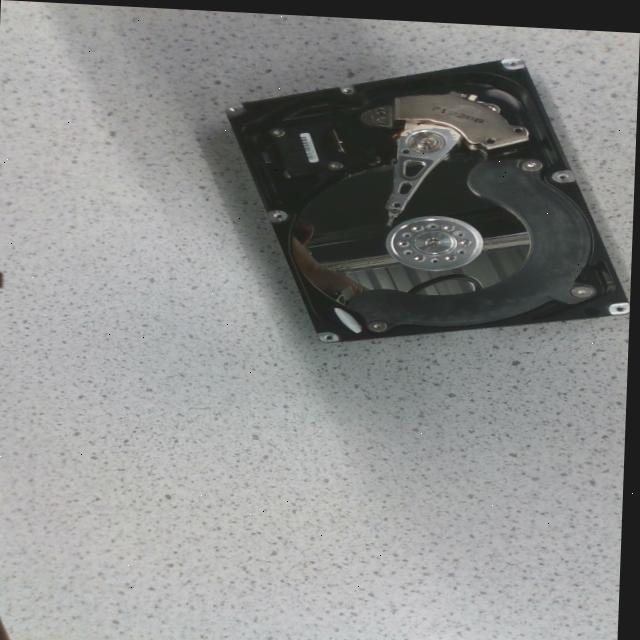actuator arm: (388, 118, 458, 219)
actuator axis: (408, 127, 444, 147)
case: (229, 53, 632, 339)
magnet: (394, 87, 528, 144)
pcb connector: (276, 119, 343, 173)
platter: (295, 156, 530, 302)
platter holder: (387, 211, 484, 266)
platter protector: (351, 152, 593, 319)
screw: (572, 277, 598, 291), (519, 153, 543, 165), (371, 317, 388, 327), (270, 125, 285, 134), (328, 157, 343, 166), (414, 250, 427, 258), (397, 235, 410, 242), (412, 220, 425, 227), (445, 250, 457, 257), (442, 220, 455, 226), (460, 234, 471, 241)
